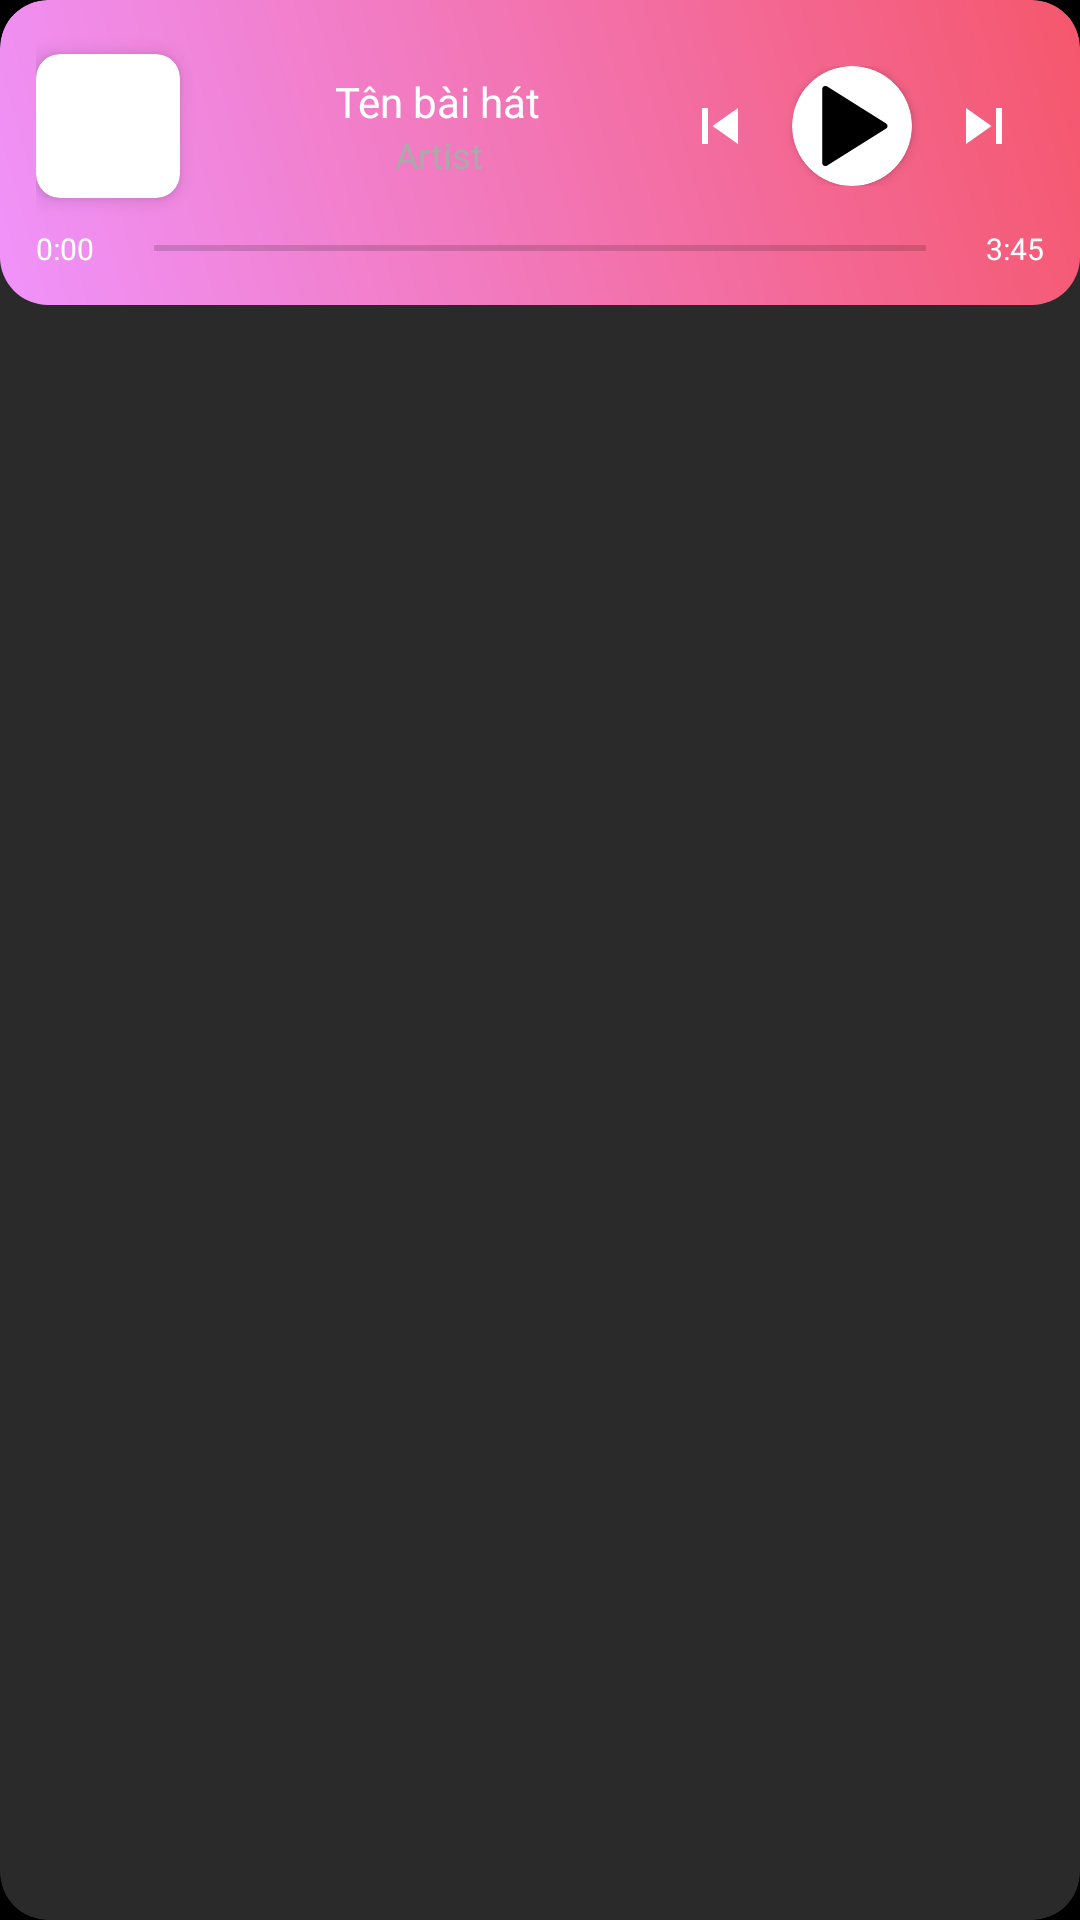

Icon click points for this 1080w x 1920h phone screenshot, format point (x, y):
play: point (852, 126)
skip next: point (984, 126)
skip previous: point (720, 126)
